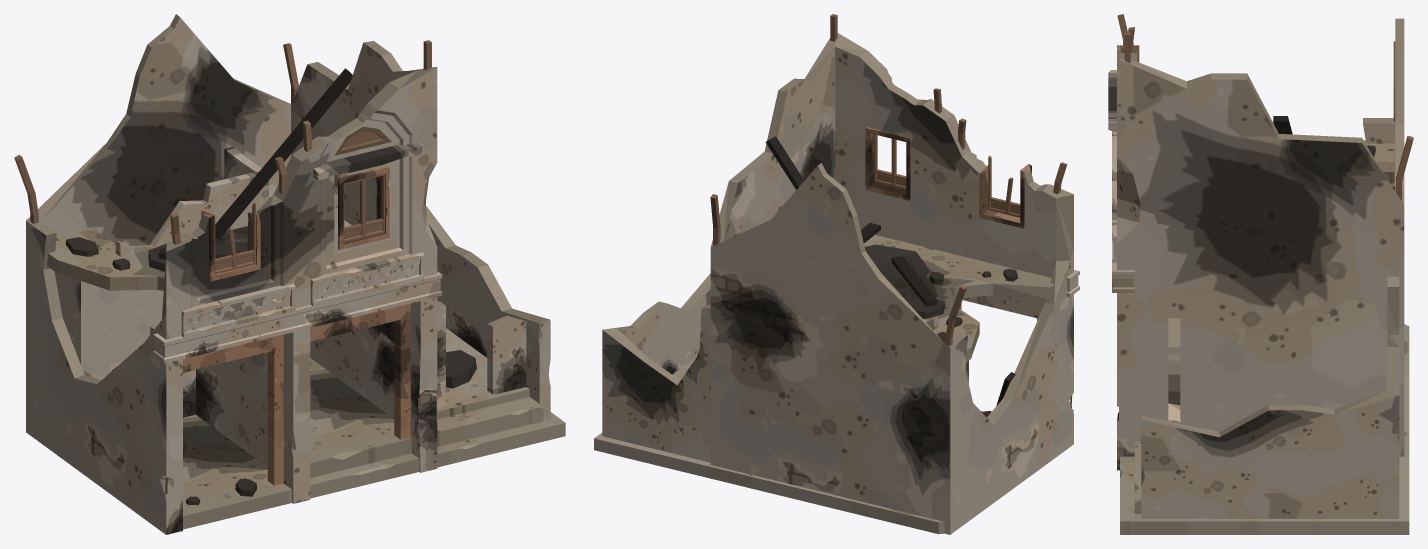
The model's file is SM_Bld_Shop_01_Destroyed.glb.
3 renders of one model, left to right at view 1: azimuth 30°, elevation 25°; view 2: azimuth 150°, elevation 25°; view 3: azimuth 270°, elevation 25°, orthographic. The views are drawn at different scales.
Parts seen in each view (by area): view 1: SM_Bld_Shop_01_Destroyed; view 2: SM_Bld_Shop_01_Destroyed; view 3: SM_Bld_Shop_01_Destroyed.
Boxes of the visible parts, x1=… form: SM_Bld_Shop_01_Destroyed: x1=14, y1=14, x2=565, y2=534; SM_Bld_Shop_01_Destroyed: x1=594, y1=14, x2=1079, y2=534; SM_Bld_Shop_01_Destroyed: x1=1108, y1=14, x2=1413, y2=534.
Bounding box in the file's own units: 9.78 × 9.56 × 6.09.
1 material, 1 textured.
